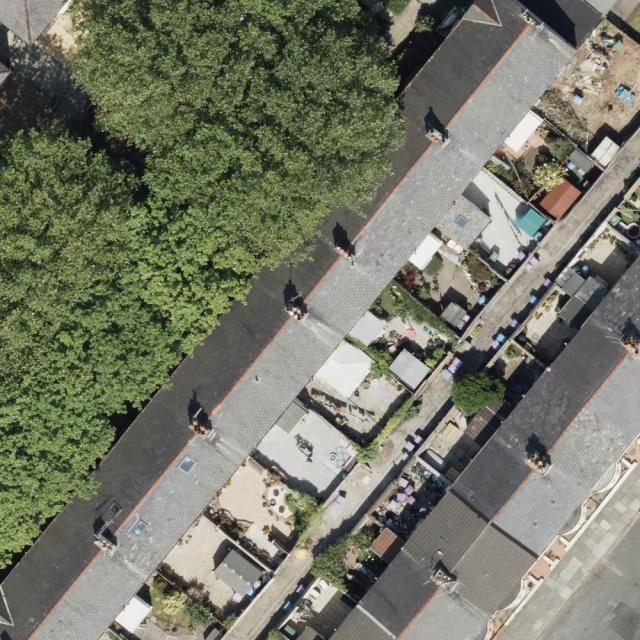roof: (0, 0, 578, 640), (287, 253, 640, 640), (0, 0, 71, 47)
skylight: (125, 516, 152, 540), (175, 456, 199, 478), (453, 213, 471, 234), (106, 502, 126, 519)
